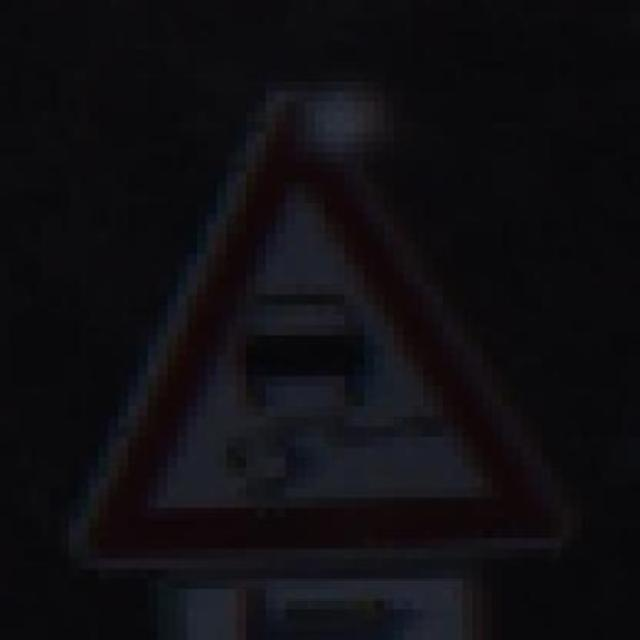Slippery Road Ahead: (79, 61, 601, 590)
